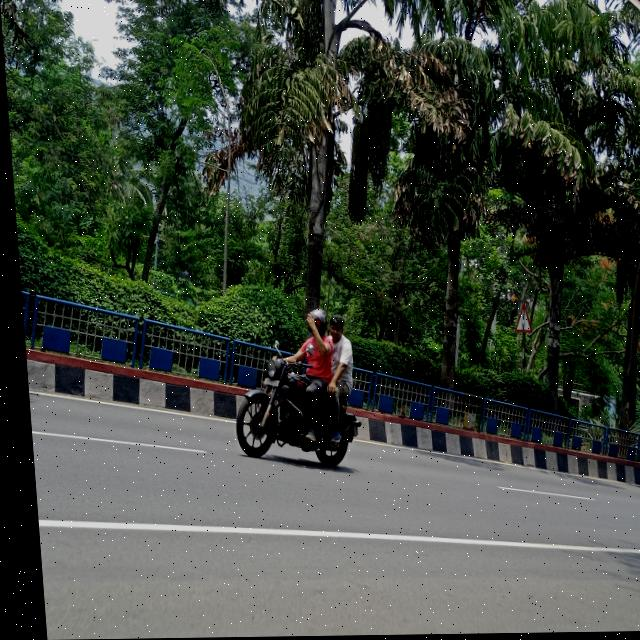bike: (221, 353, 361, 473)
